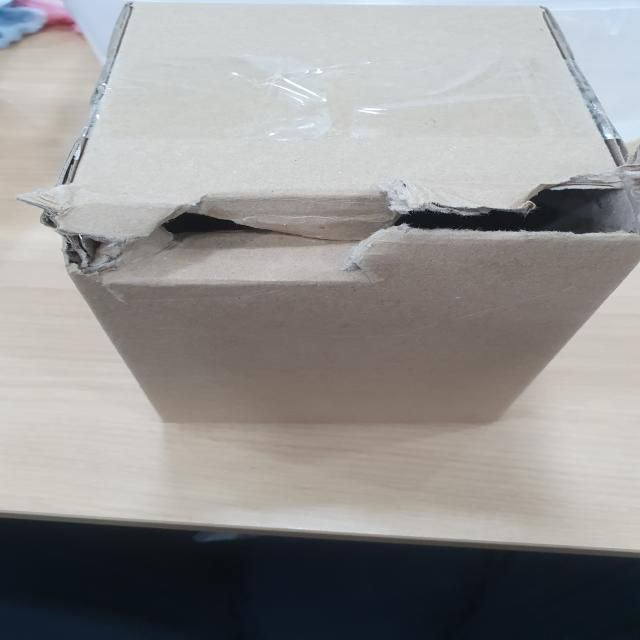hole: (43, 181, 639, 275)
